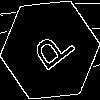P: (25, 25, 77, 79)
